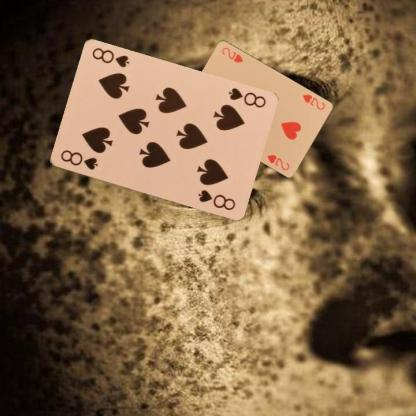2h: (300, 92, 326, 111)
8s: (58, 147, 99, 172), (225, 85, 267, 109)
